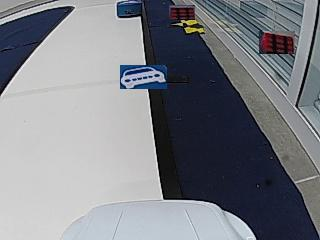prop: (117, 1, 141, 18)
